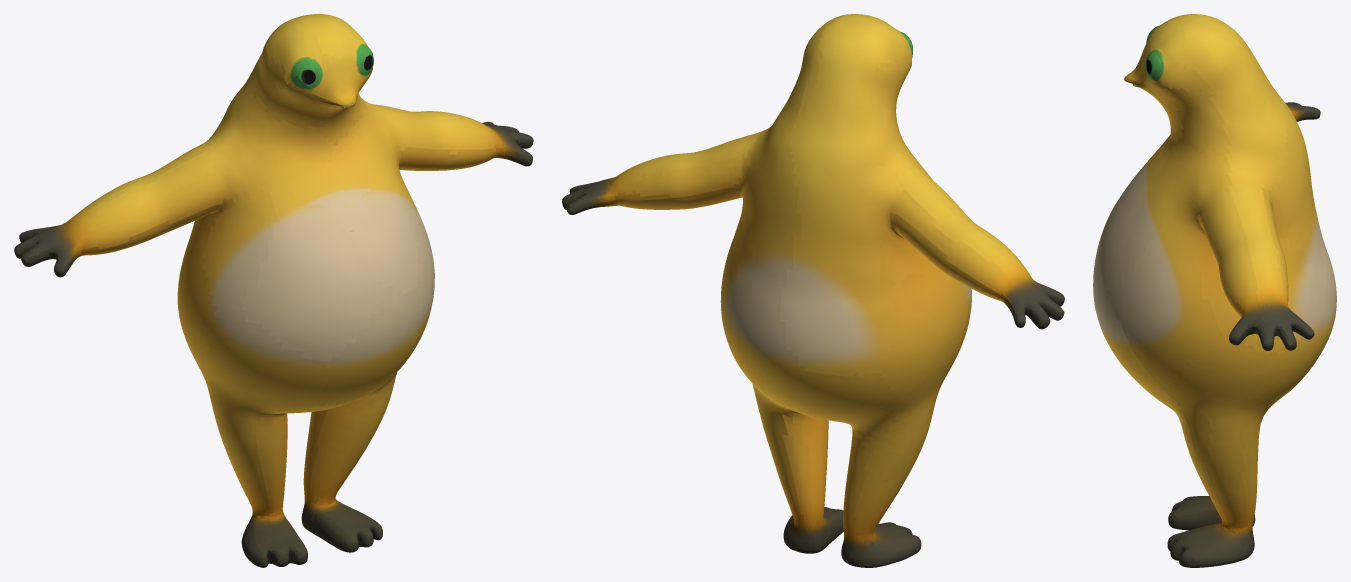
File: nailong-textured-reference.glb
3 renders of one model, left to right at view 1: azimuth 30°, elevation 25°; view 2: azimuth 150°, elevation 25°; view 3: azimuth 270°, elevation 25°, orthographic. The views are drawn at different scales.
Parts seen in each view (by area): view 1: Nailong; view 2: Nailong; view 3: Nailong.
Part boxes in pixels (x1=…): Nailong: x1=14, y1=14, x2=533, y2=567; Nailong: x1=562, y1=14, x2=1064, y2=567; Nailong: x1=1093, y1=14, x2=1336, y2=567.
Bounding box in the file's own units: 26.55 × 26.54 × 11.31.
1 material, 1 textured.
